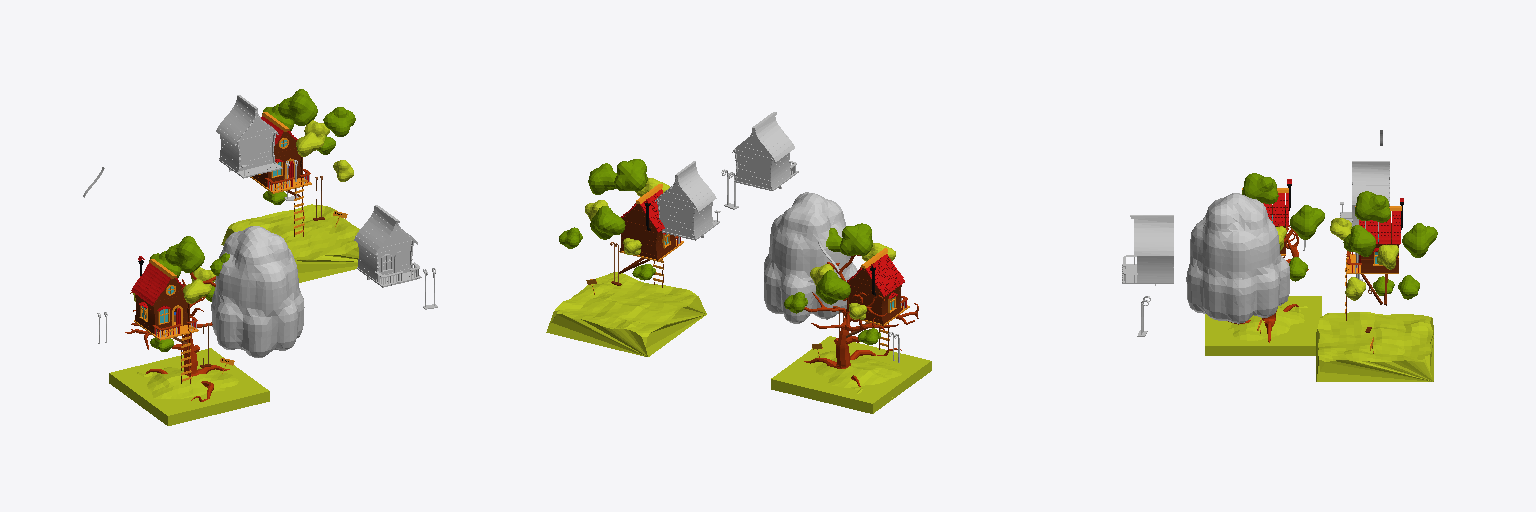
File: casita1.obj
3 renders of one model, left to right at view 1: azimuth 30°, elevation 25°; view 2: azimuth 150°, elevation 25°; view 3: azimuth 270°, elevation 25°, orthographic.
Visible parts, largest first — view 1: Mball.053_Mesh.008, Plane.007_Plane.006, Cube.003_Cube, Plane.008_Plane.009, Cube.008_Cube.013, Plane.009_Plane.010, Cube.009_Cube.006, Cube.039_Cube.056, Cube.014_Cube.009, Cube.037_Cube.054, Mball.035_Mesh.014, Mball.039_Mesh.018 (+1 smaller); view 2: Plane.007_Plane.006, Mball.053_Mesh.008, Plane.008_Plane.009, Cube.003_Cube, Cube.008_Cube.013, Plane.009_Plane.010, Cube.038_Cube.055, Cube.011_Cube.007, Cube.039_Cube.056, Cube.082_Cube.114, Cube.014_Cube.009, Mball.035_Mesh.014 (+3 smaller); view 3: Mball.053_Mesh.008, Plane.007_Plane.006, Cube.003_Cube, Plane.008_Plane.009, Cube.039_Cube.056, Cube.012_Cube.008, Plane.009_Plane.010, Cube.040_Cube.057, Mball.035_Mesh.014, Cube.061_Cube.018, Mball.036_Mesh.015, Mball.039_Mesh.018 (+1 smaller).
Boxes of the visible parts, x1=… form: Mball.053_Mesh.008: x1=211, y1=226, x2=304, y2=357; Plane.007_Plane.006: x1=221, y1=204, x2=359, y2=282; Cube.003_Cube: x1=109, y1=348, x2=269, y2=425; Plane.008_Plane.009: x1=125, y1=236, x2=229, y2=401; Cube.008_Cube.013: x1=131, y1=259, x2=198, y2=340; Plane.009_Plane.010: x1=127, y1=367, x2=238, y2=398; Cube.009_Cube.006: x1=238, y1=114, x2=274, y2=170; Cube.039_Cube.056: x1=354, y1=205, x2=417, y2=254; Cube.014_Cube.009: x1=216, y1=95, x2=256, y2=145; Cube.037_Cube.054: x1=377, y1=226, x2=412, y2=278; Mball.035_Mesh.014: x1=278, y1=89, x2=317, y2=125; Mball.039_Mesh.018: x1=323, y1=107, x2=355, y2=136; Plane.007_Plane.006: x1=546, y1=272, x2=706, y2=356; Mball.053_Mesh.008: x1=764, y1=192, x2=857, y2=323; Plane.008_Plane.009: x1=784, y1=223, x2=918, y2=386; Cube.003_Cube: x1=771, y1=336, x2=931, y2=413; Cube.008_Cube.013: x1=845, y1=248, x2=909, y2=325; Plane.009_Plane.010: x1=813, y1=351, x2=901, y2=397; Cube.038_Cube.055: x1=736, y1=132, x2=772, y2=188; Cube.011_Cube.007: x1=658, y1=181, x2=694, y2=237; Cube.039_Cube.056: x1=732, y1=112, x2=794, y2=162; Cube.082_Cube.114: x1=622, y1=204, x2=656, y2=258; Cube.014_Cube.009: x1=676, y1=161, x2=716, y2=211; Mball.035_Mesh.014: x1=614, y1=159, x2=647, y2=191; Mball.053_Mesh.008: x1=1186, y1=193, x2=1289, y2=323; Plane.007_Plane.006: x1=1316, y1=312, x2=1433, y2=381; Cube.003_Cube: x1=1205, y1=296, x2=1321, y2=355; Plane.008_Plane.009: x1=1228, y1=173, x2=1324, y2=342; Cube.039_Cube.056: x1=1130, y1=215, x2=1173, y2=255; Cube.012_Cube.008: x1=1352, y1=162, x2=1389, y2=203; Plane.009_Plane.010: x1=1228, y1=305, x2=1307, y2=340; Cube.040_Cube.057: x1=1137, y1=256, x2=1173, y2=282; Mball.035_Mesh.014: x1=1355, y1=191, x2=1390, y2=222; Cube.061_Cube.018: x1=1355, y1=206, x2=1401, y2=244; Mball.036_Mesh.015: x1=1402, y1=223, x2=1437, y2=257; Mball.039_Mesh.018: x1=1343, y1=225, x2=1375, y2=256.
Bounding box in the file's own units: 88.16 × 65.26 × 83.21.